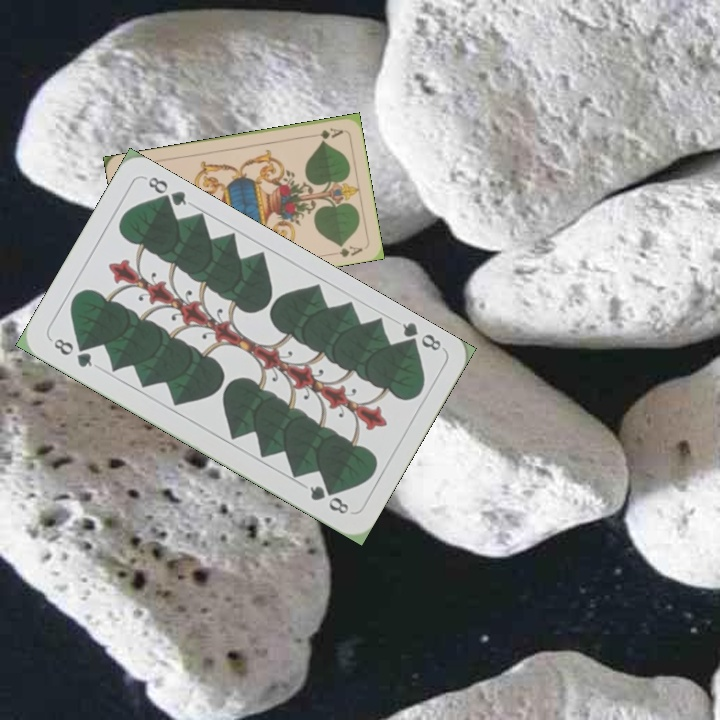G8: (397, 318, 444, 354), (49, 334, 95, 370)
GA: (306, 124, 346, 142)
